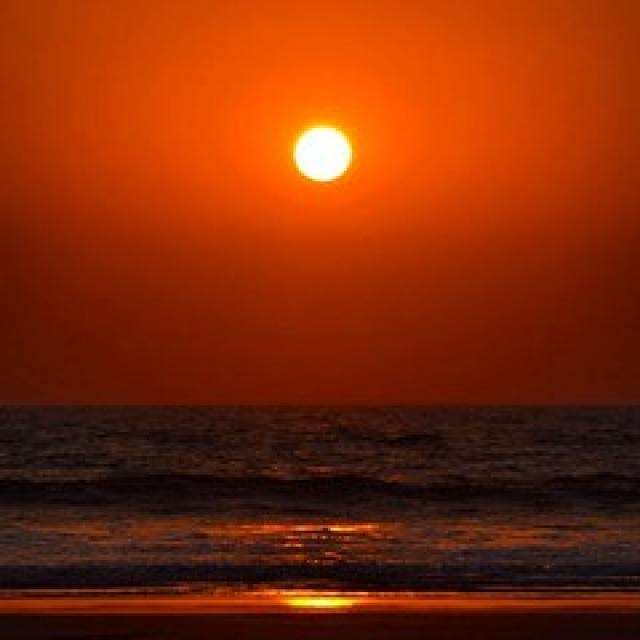sun: (239, 85, 406, 221)
